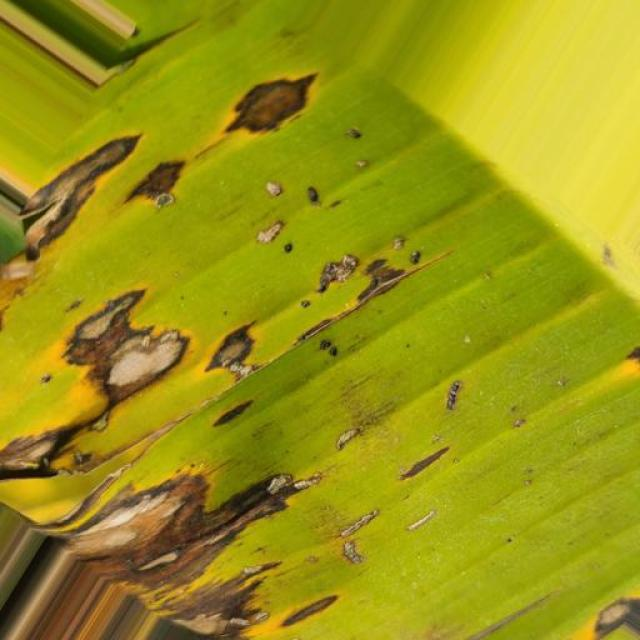Early_rust: (0, 54, 470, 640), (555, 549, 640, 640)
